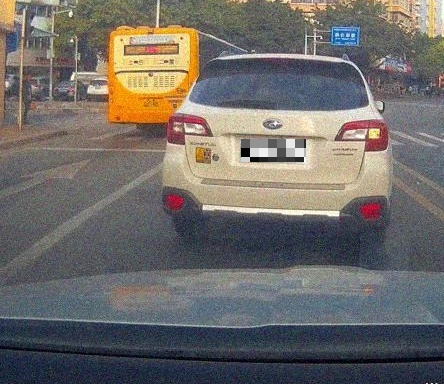L_light: (166, 112, 213, 146)
R_light: (334, 119, 389, 152)
T_light: (264, 58, 294, 63)
day-right: (161, 53, 391, 250)
plate_1: (241, 139, 306, 162)
